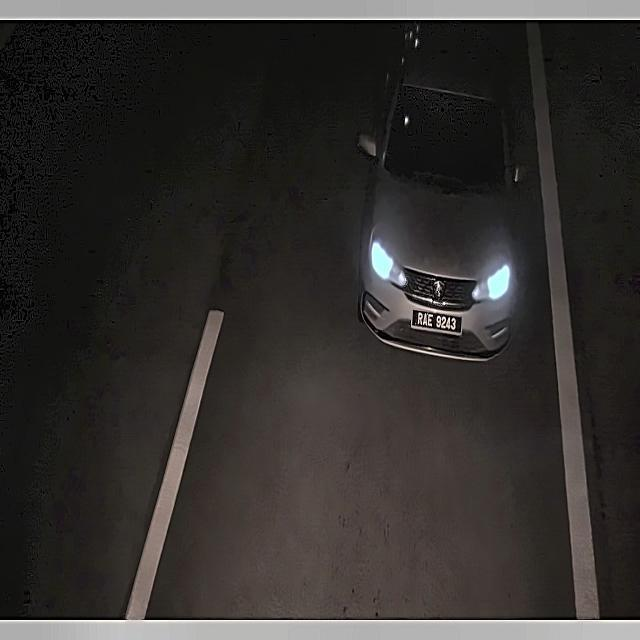car: (406, 302, 469, 345)
